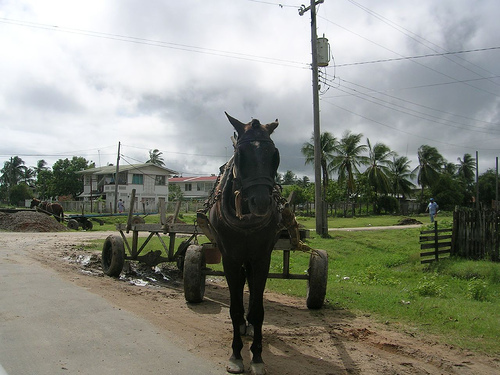horse: (205, 111, 282, 375)
